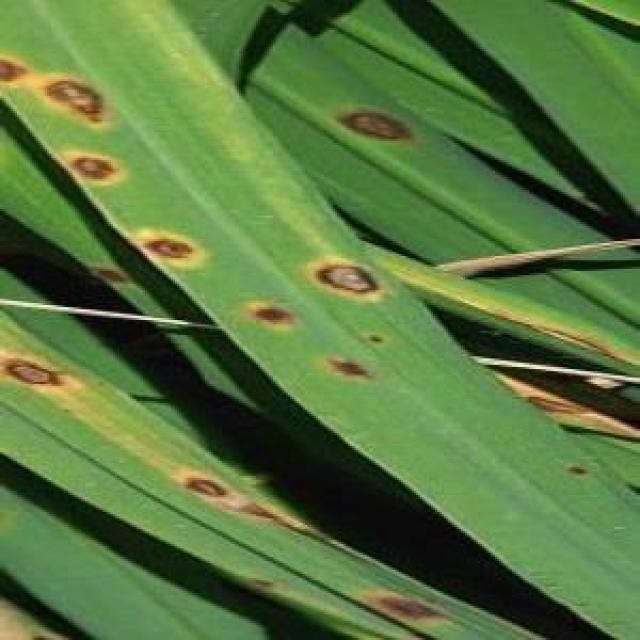Rice: (133, 228, 213, 282), (332, 96, 413, 148), (309, 253, 383, 305), (42, 76, 116, 127), (0, 342, 67, 397), (64, 145, 140, 193), (364, 586, 449, 628), (316, 342, 378, 394), (240, 287, 294, 338), (170, 465, 228, 507), (0, 52, 39, 88), (565, 458, 596, 486)
